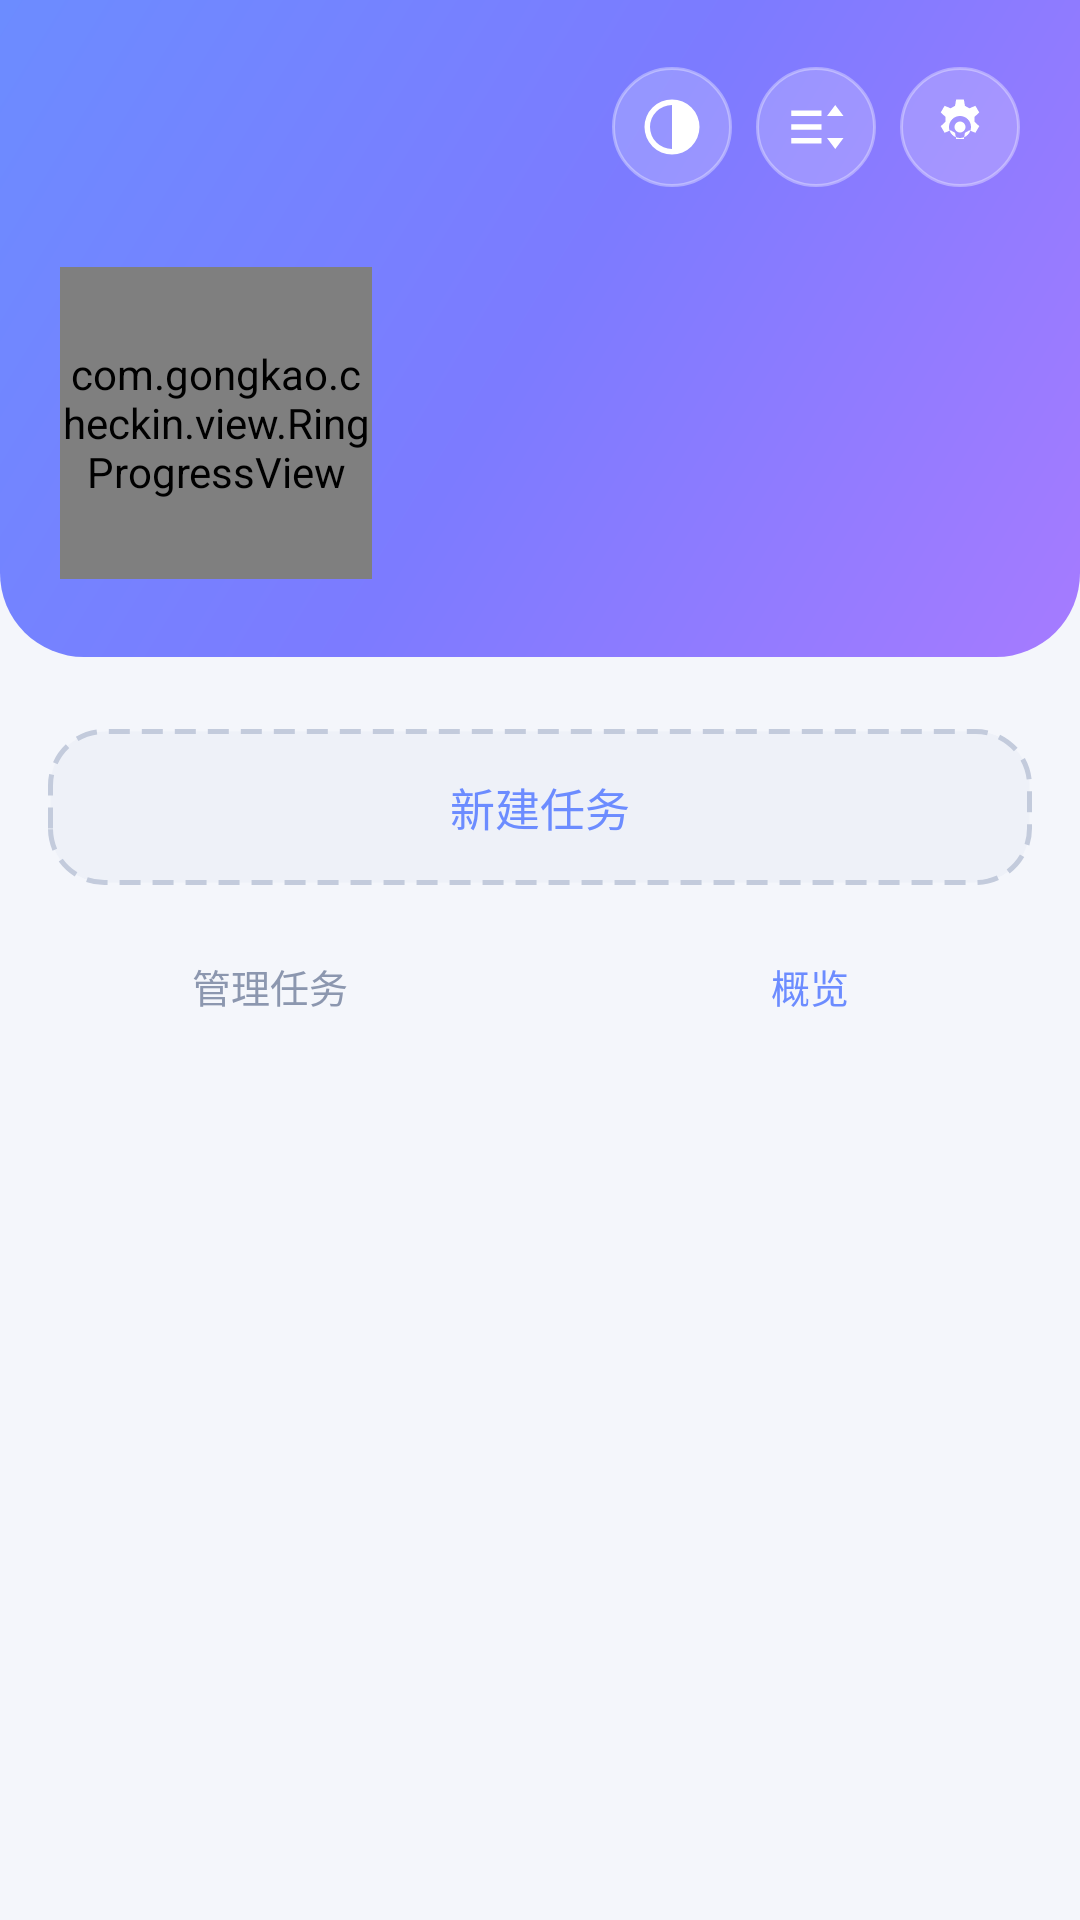

Icon bounding boxes for this 1080px×1920px phone screenshot, format rect(x1, y1, x2, y2):
切换主题: rect(612, 67, 732, 187)
设置: rect(900, 67, 1020, 187)
调整顺序: rect(756, 67, 876, 187)
